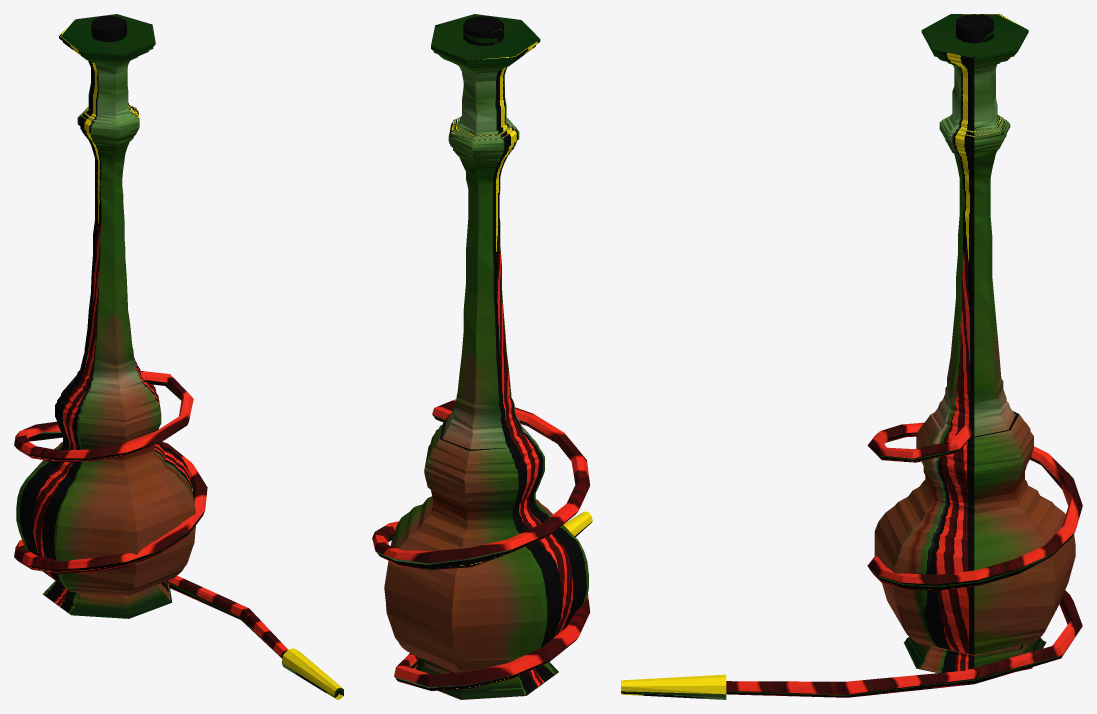
Rendered from Nargila.glb.
3 renders of one model, left to right at view 1: azimuth 30°, elevation 25°; view 2: azimuth 150°, elevation 25°; view 3: azimuth 270°, elevation 25°, orthographic. The views are drawn at different scales.
Visible parts, largest first — view 1: Nargila; view 2: Nargila; view 3: Nargila.
Boxes of the visible parts, <box> form: Nargila: <box>14,14,343,699</box>; Nargila: <box>372,14,592,699</box>; Nargila: <box>621,14,1082,699</box>.
Size of the model in its own units: 74.78 by 246 by 161.
Materials: 1 (1 with a texture image).
